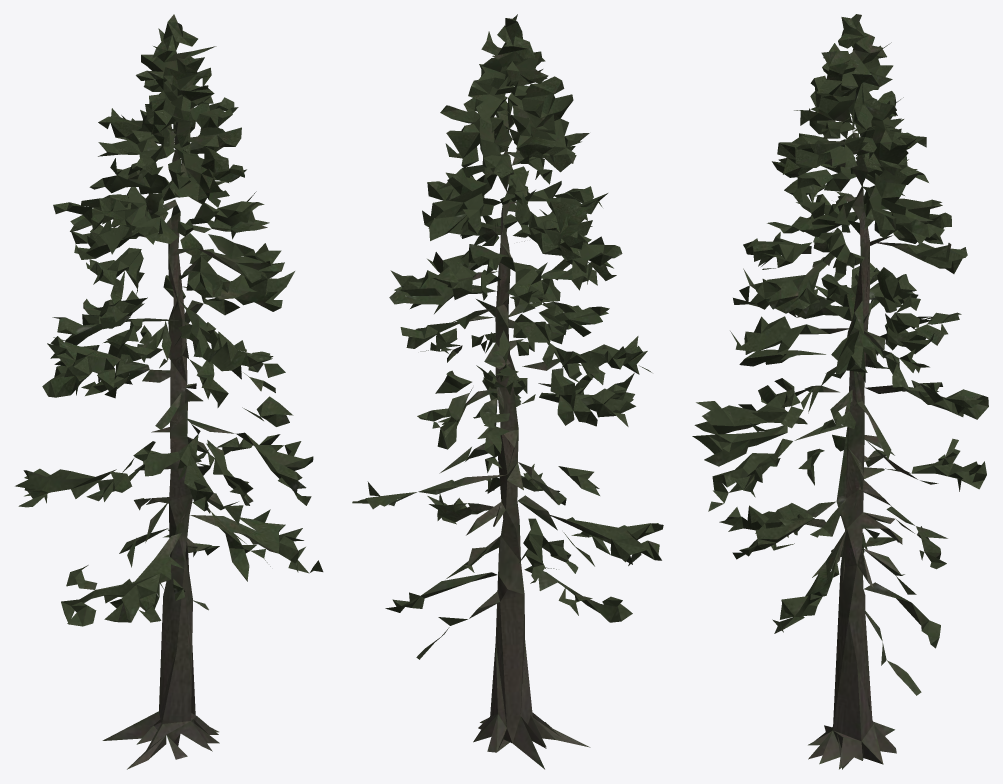
The model's file is p_pine.glb.
3 views of the same model, side by side, from view 1: azimuth 30°, elevation 25°; view 2: azimuth 150°, elevation 25°; view 3: azimuth 270°, elevation 25° (orthographic). The views are drawn at different scales.
Visible parts, largest first — view 1: output_unwrapped; view 2: output_unwrapped; view 3: output_unwrapped.
Part boxes in pixels (x1,y1,x2,y2): output_unwrapped: [15, 14, 323, 769]; output_unwrapped: [352, 14, 663, 769]; output_unwrapped: [692, 14, 988, 769].
Size of the model in its own units: 0.6697 by 1.87 by 0.677.
1 material, 1 textured.
